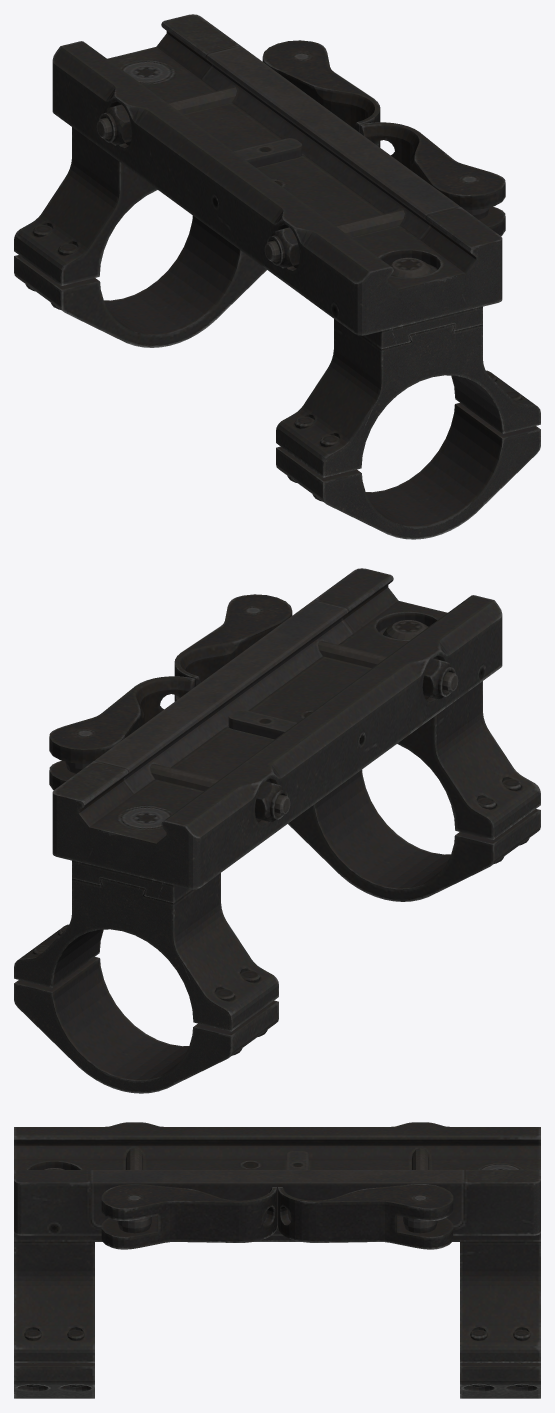
3 renders of one model, top to bottom at view 1: azimuth 30°, elevation 25°; view 2: azimuth 150°, elevation 25°; view 3: azimuth 270°, elevation 25°, orthographic. The views are drawn at different scales.
Visible parts, largest first — view 1: TW_5c86592b2e2216000e69e77c_PZ_Import; view 2: TW_5c86592b2e2216000e69e77c_PZ_Import; view 3: TW_5c86592b2e2216000e69e77c_PZ_Import.
Part boxes in pixels (x1,y1,x2,y2): TW_5c86592b2e2216000e69e77c_PZ_Import: (14, 14, 540, 539); TW_5c86592b2e2216000e69e77c_PZ_Import: (14, 568, 540, 1093); TW_5c86592b2e2216000e69e77c_PZ_Import: (14, 1122, 540, 1398).
Size of the model in its own units: 0.034 by 0.0745 by 0.0372.
1 material, 1 textured.
